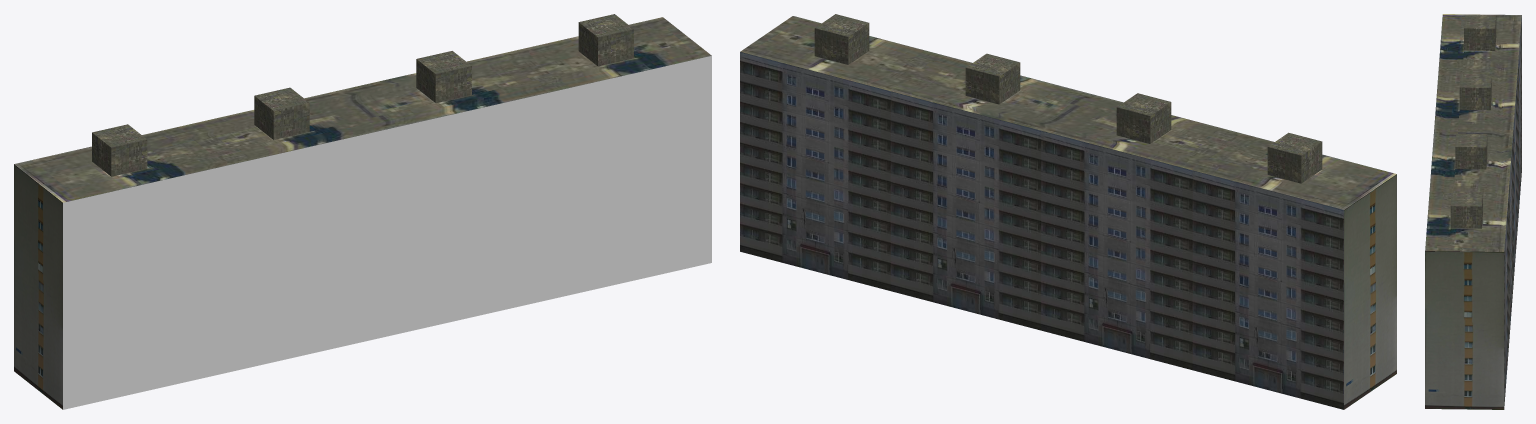
Rendered from maja4.dae.
3 views of the same model, side by side, from view 1: azimuth 30°, elevation 25°; view 2: azimuth 150°, elevation 25°; view 3: azimuth 270°, elevation 25° (orthographic). The views are drawn at different scales.
Parts seen in each view (by area): view 1: G-__555573; view 2: G-__555573; view 3: G-__555573.
Boxes of the visible parts, x1,y1,x2,y2 form: G-__555573: [14, 14, 711, 409]; G-__555573: [740, 14, 1396, 409]; G-__555573: [1425, 14, 1521, 409].
Size of the model in its own units: 90.27 by 15.5 by 31.84.
